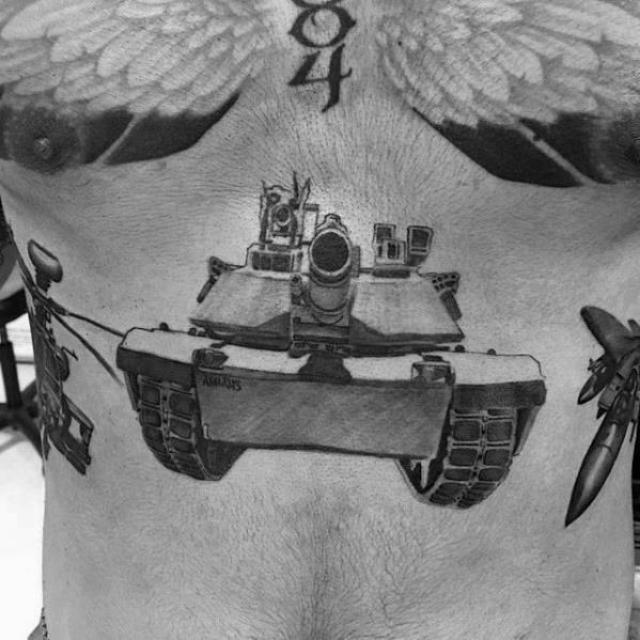Tanks: (111, 168, 557, 531)
